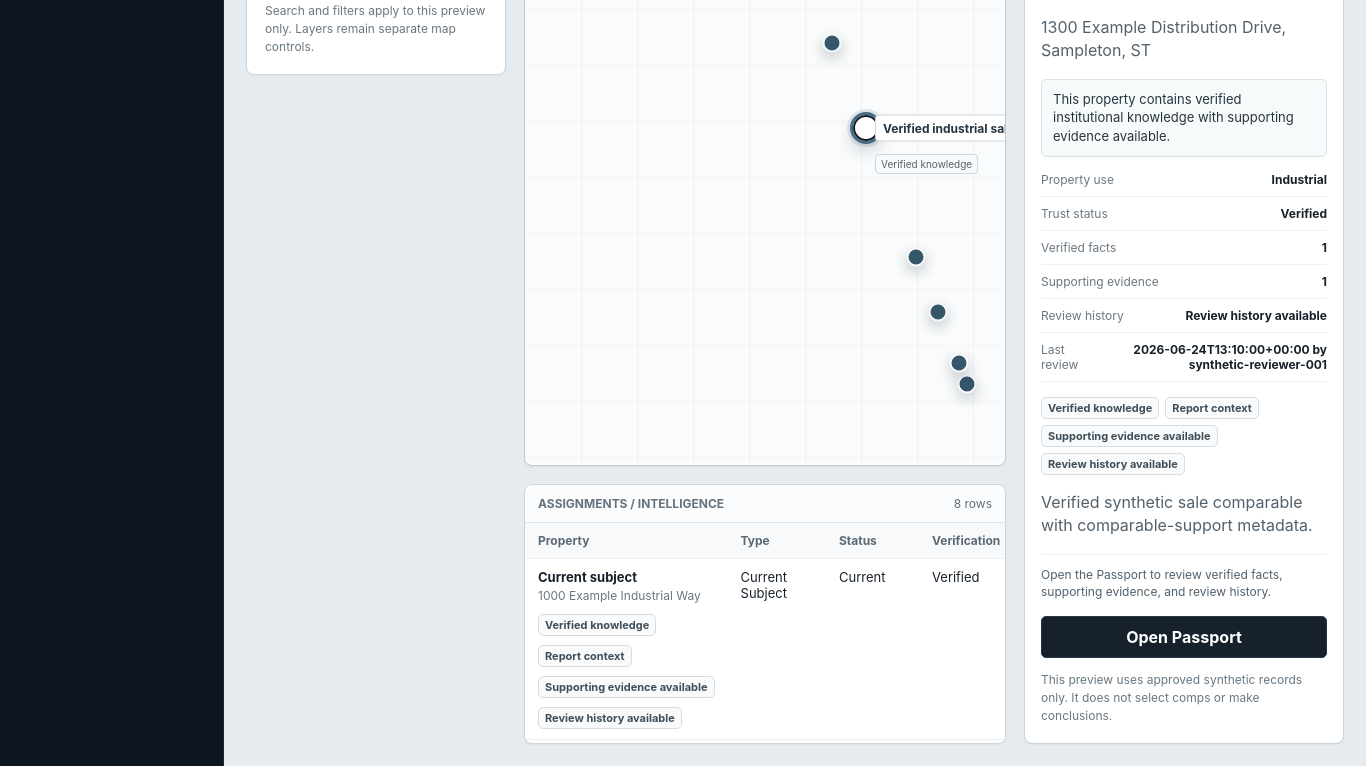
Test: IntelligenceWorkspacePreview › renders current subject field history indicator from synthetic subject profile context
(page scrolled)
Click the button named "Select Current subject". click: (967, 384)
box: [957,374,976,394]
(page scrolled)
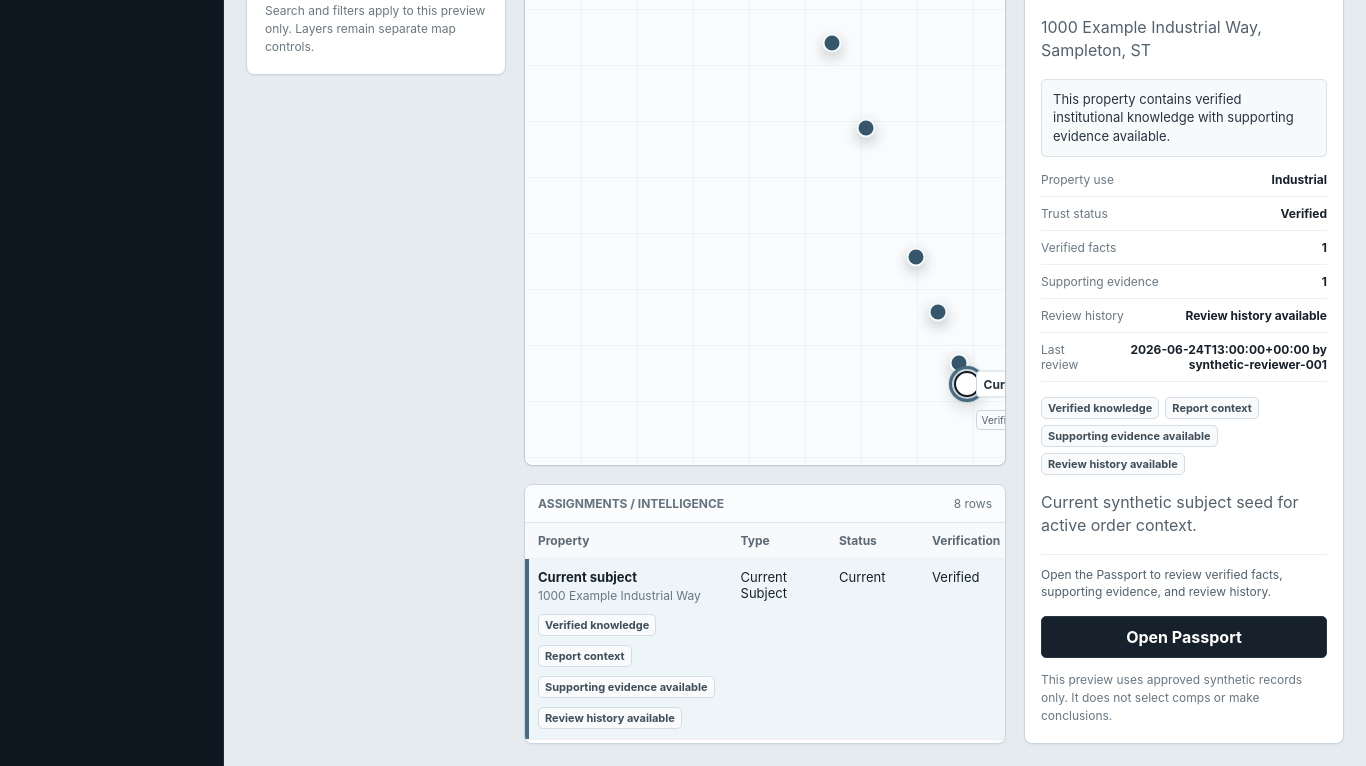
Click the button "Open Passport". click: (1184, 637)
box: [1041,616,1327,658]
(page scrolled)
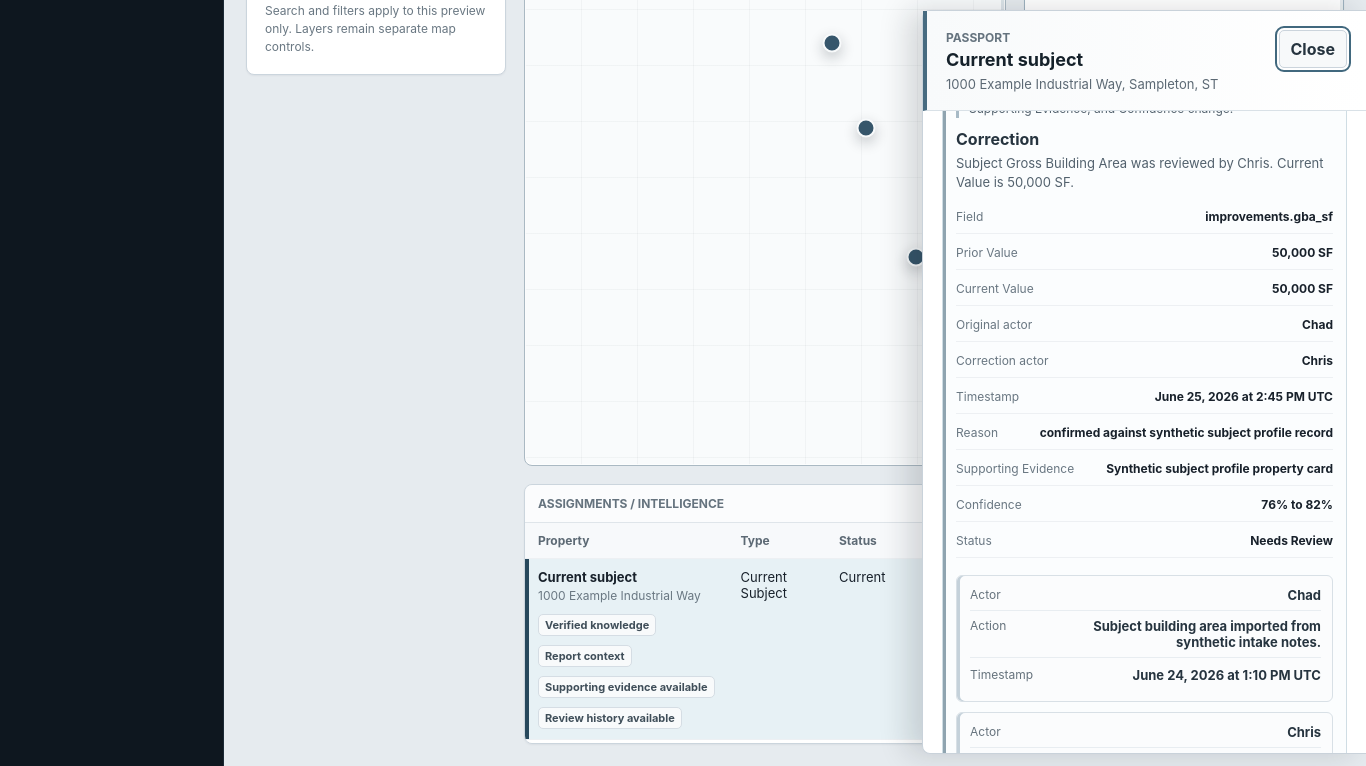
Now the element labelled "Field History" shows "Subject Gross Building Area", box [956,155,1127,171]
Now the text "Synthetic subject profile property card" is shown, box [1106,461,1333,476]
Now the text "confirmed against synthetic subject profile record" is shown, box [1040,425,1333,440]
